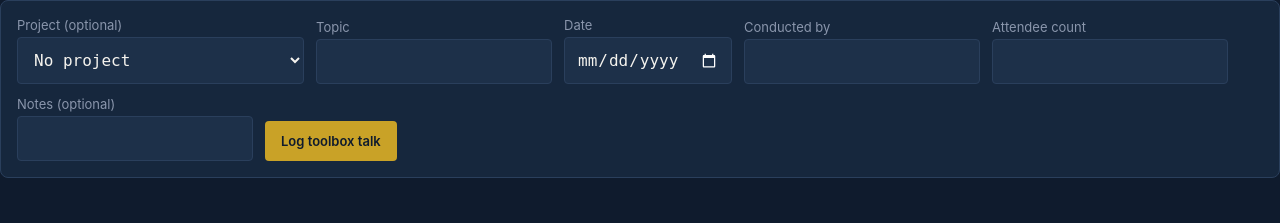
Test: CreateToolboxTalkForm › shows the server error and keeps field values on failure
Type "Working at heights" into the field labelled "Topic" at point(434, 62), box [316,39,552,84]
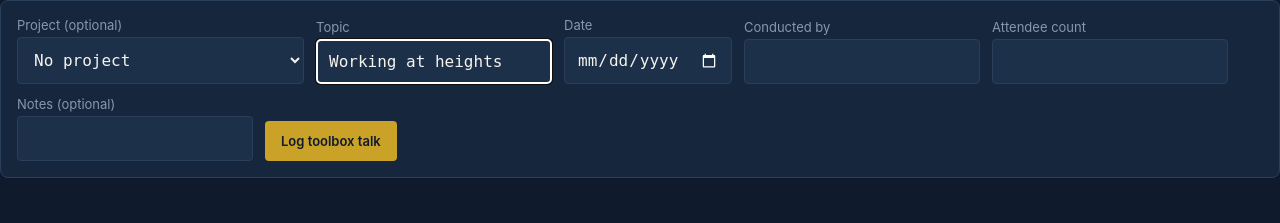
Type "2026-08-01" into the date field labelled "Date" at point(648, 60), box [564,37,732,84]
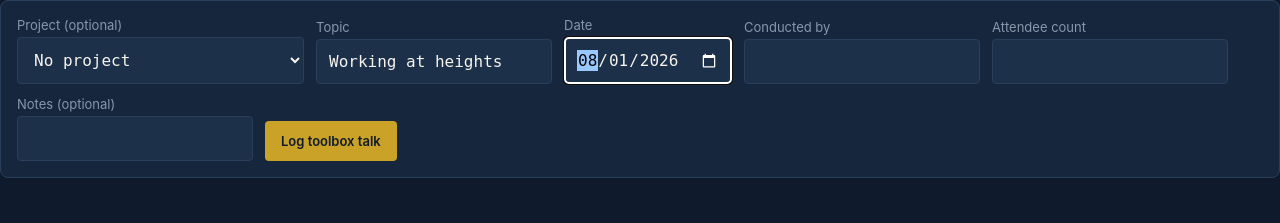
Type "Site Supervisor A" into the field labelled "Conducted by" at point(862, 62), box [744,39,980,84]
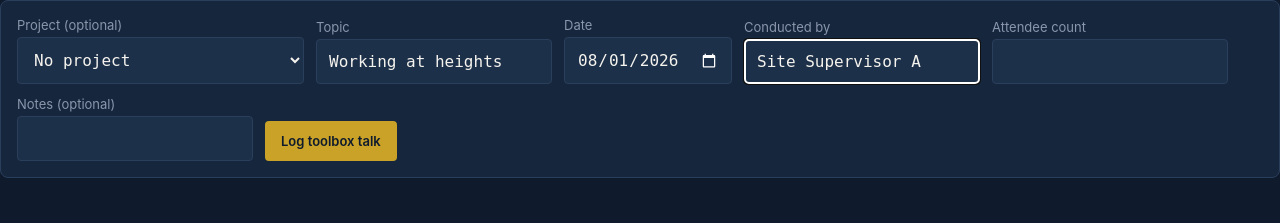
Type "12" into the number field labelled "Attendee count" at point(1110, 62), box [992,39,1228,84]
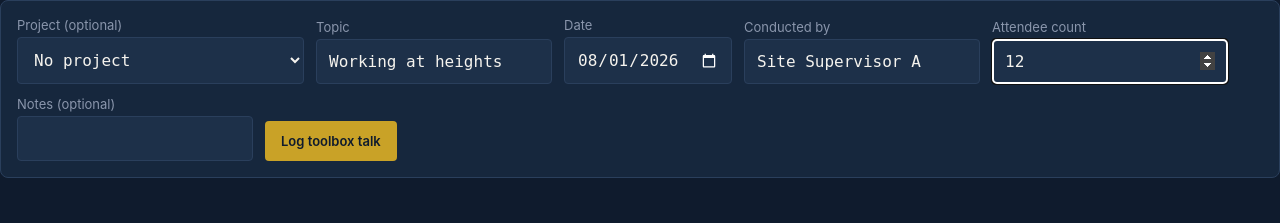
Click the button "Log toolbox talk" at point(331, 141), box [265,121,397,161]
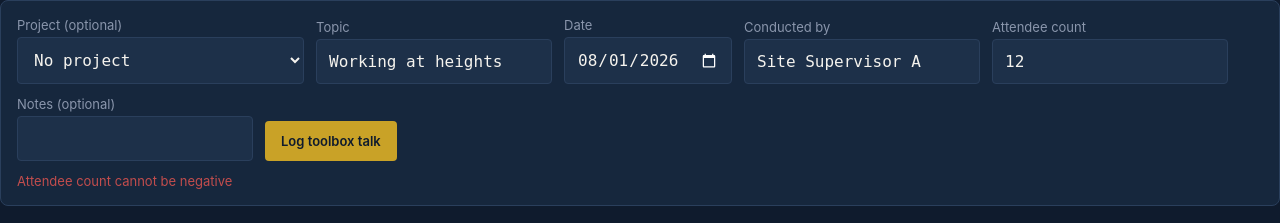
Expected: the text "Attendee count cannot be negative" is shown, [17,173,232,189]
